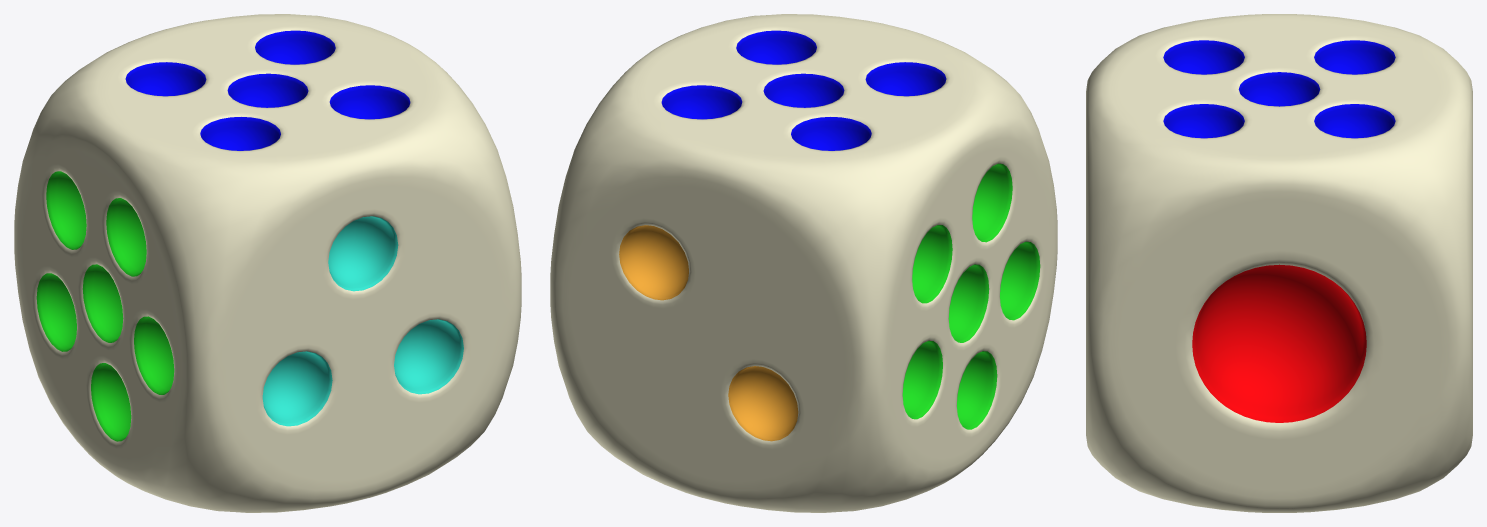
File: Dice.glb
3 views of the same model, side by side, from view 1: azimuth 30°, elevation 25°; view 2: azimuth 150°, elevation 25°; view 3: azimuth 270°, elevation 25° (orthographic).
Visible parts, largest first — view 1: Dice; view 2: Dice; view 3: Dice.
Part boxes in pixels (left/top/right/bottom): Dice: left=14, top=14, right=521, bottom=512; Dice: left=550, top=14, right=1057, bottom=512; Dice: left=1086, top=14, right=1472, bottom=512.
Bounding box in the file's own units: 0.5 × 0.5 × 0.5.
